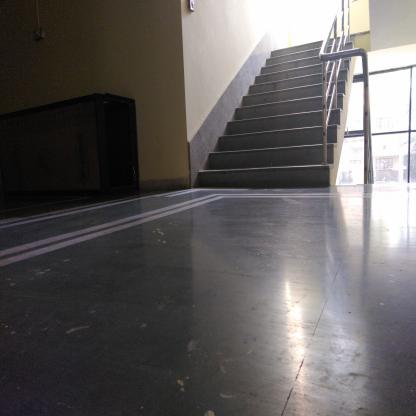stairs: (273, 48, 319, 194)
